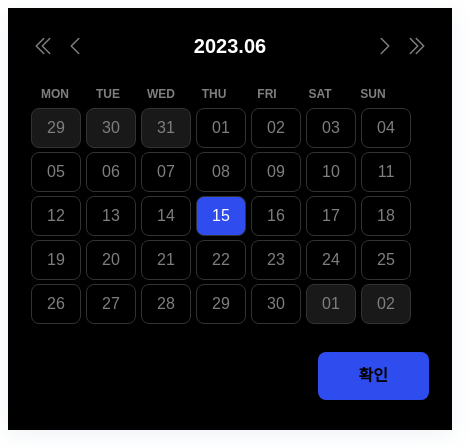
Test: Calendar › navigates to previous month
What coordinates should you click on to do the following:
click the icon with test id "single-left-arrow"
I would click on:
 (75, 46)
Its box is [63,34,87,58].
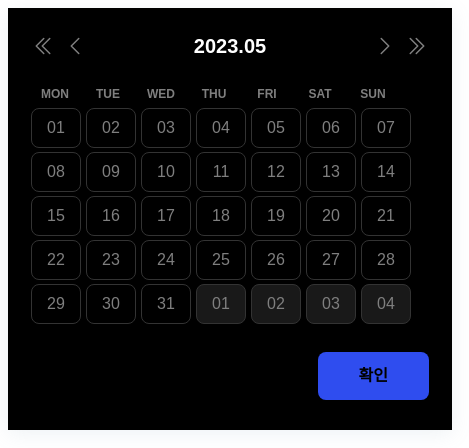
Check: the heading "2023.05" is shown, box [194,32,266,60]
